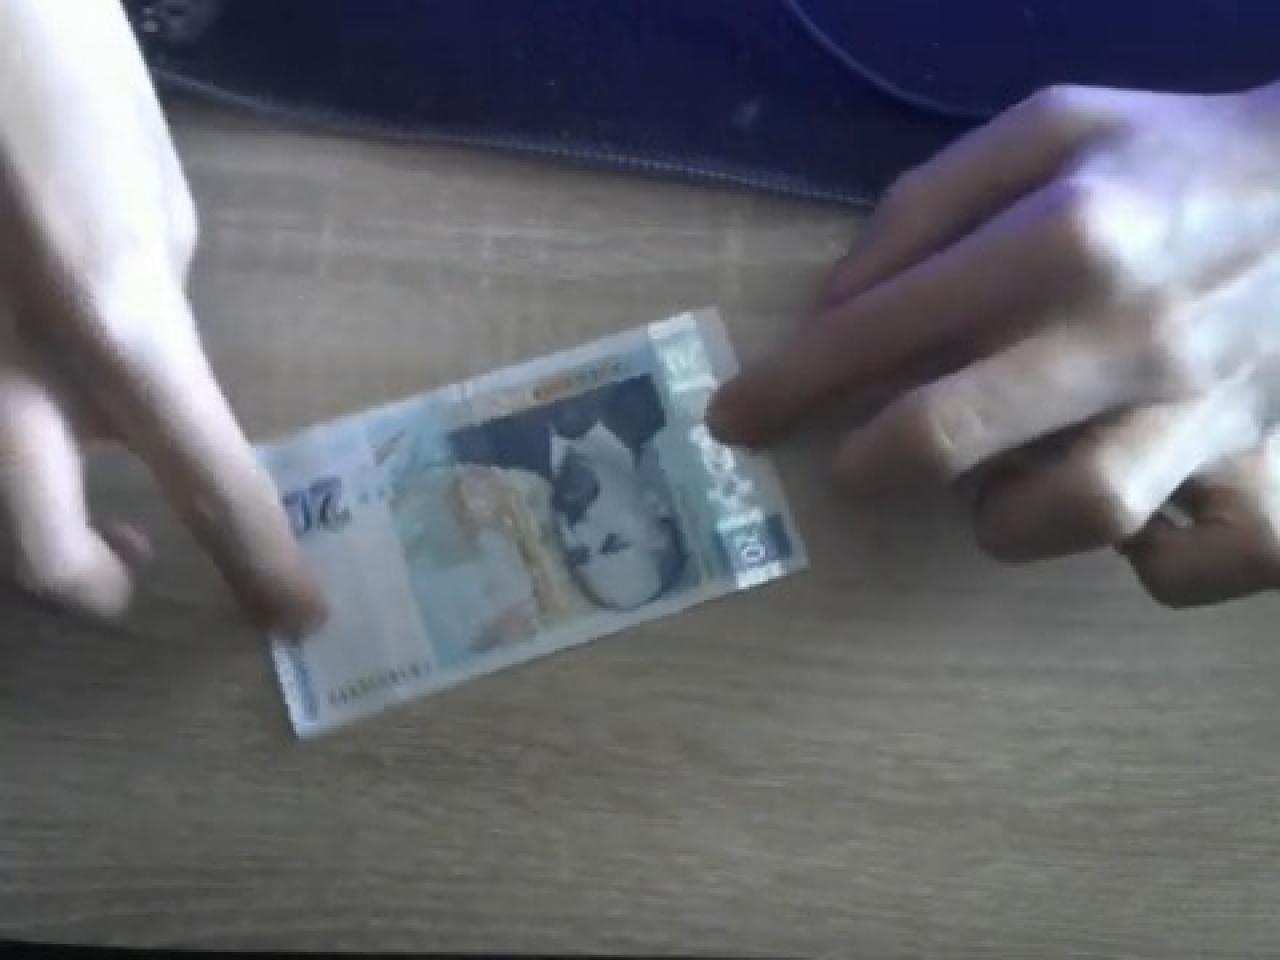20leva: (251, 302, 810, 741)
